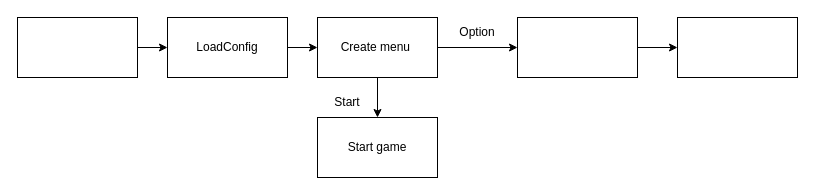
Image size: 815x195. Some labels were removed from this diagram. The box of each missing label's shape, as (x1, y1, x2, y2) in pixels:
new Menu(): (16, 16, 138, 78)
new Option(menu): (516, 16, 638, 78)
